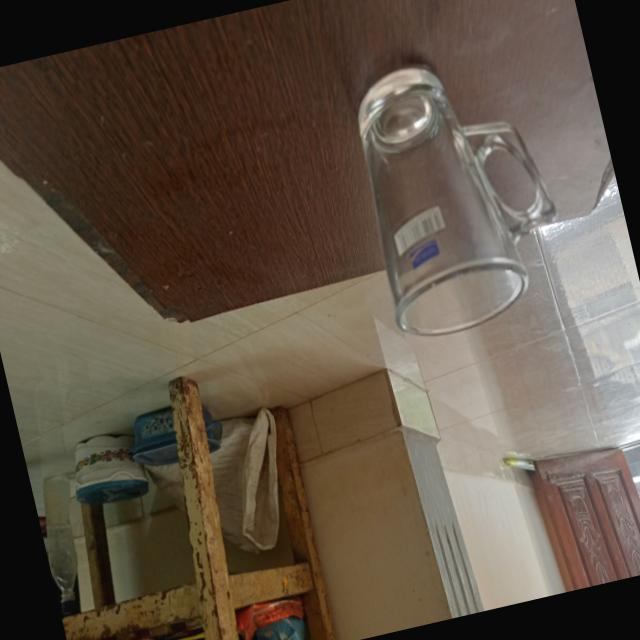glass-VX4N: (337, 31, 582, 346)
